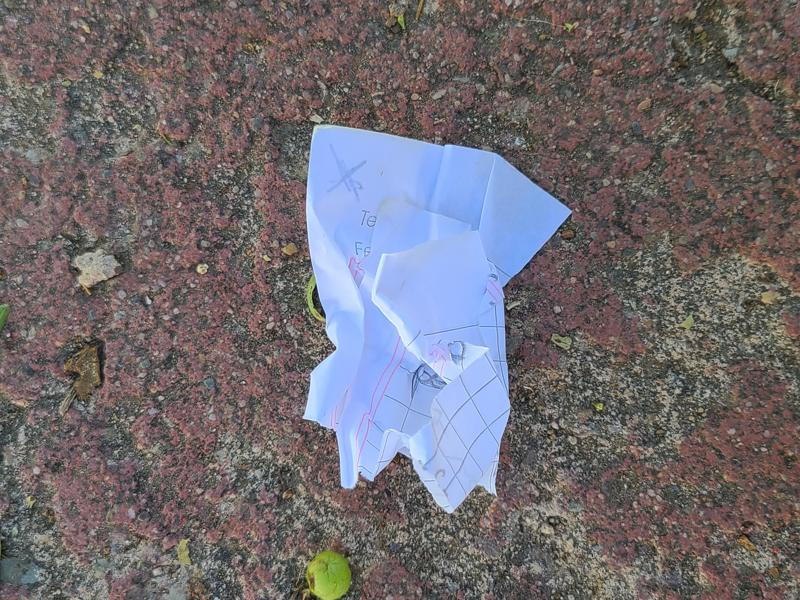papel: (303, 125, 573, 515)
